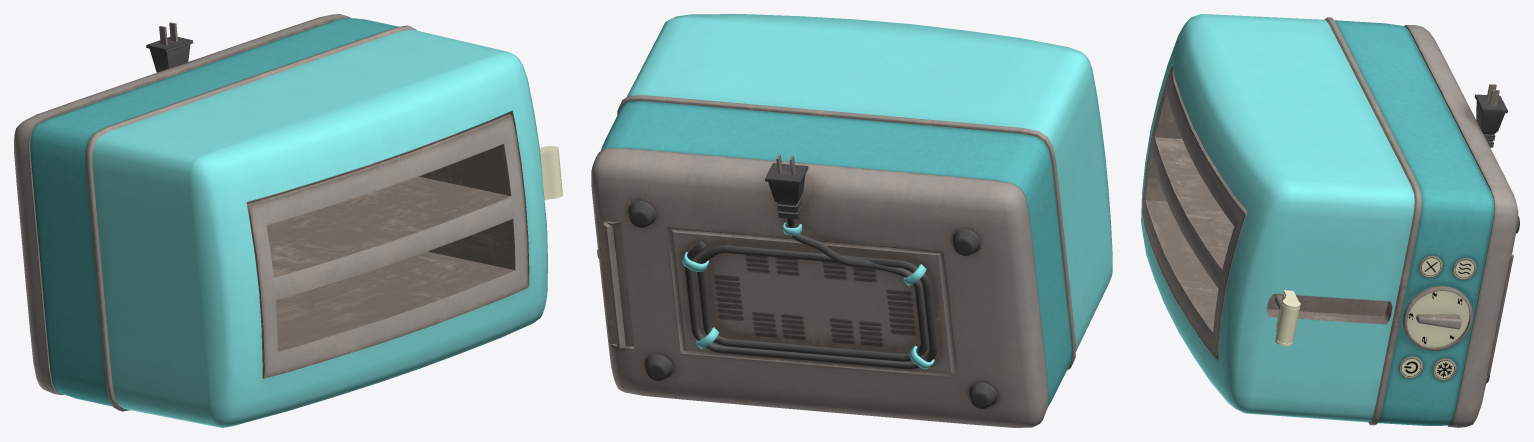
Rendered from Toaster_BaseToster.fbx.
3 renders of one model, left to right at view 1: azimuth 30°, elevation 25°; view 2: azimuth 150°, elevation 25°; view 3: azimuth 270°, elevation 25°, orthographic. The views are drawn at different scales.
Parts seen in each view (by area): view 1: Toaster, Cable, Handle; view 2: Toaster, Cable, Tray; view 3: Toaster, Cable, Handle, Tray.
Part boxes in pixels (<box>): Toaster: <box>14,14,547,427</box>; Cable: <box>146,22,193,72</box>; Handle: <box>540,146,562,199</box>; Toaster: <box>591,14,1112,427</box>; Cable: <box>684,154,937,369</box>; Tray: <box>603,221,634,350</box>; Toaster: <box>1141,14,1519,427</box>; Cable: <box>1474,84,1507,147</box>; Handle: <box>1274,290,1300,346</box>; Tray: <box>1487,254,1513,375</box>.
Bounding box in the file's own units: 2.53 × 1.58 × 1.95.
2 materials, 2 textured.
